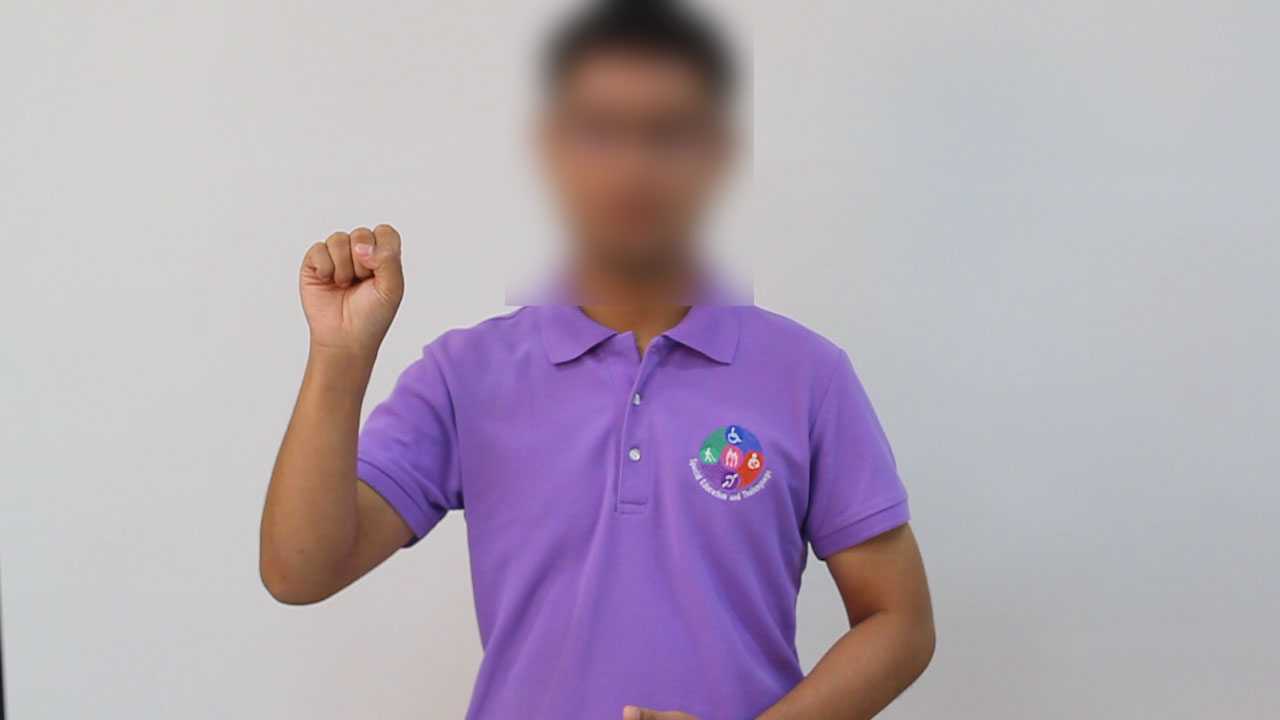sor: (282, 212, 422, 362)
